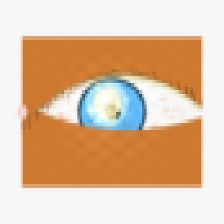corneal_ulcer: (82, 84, 132, 123)
